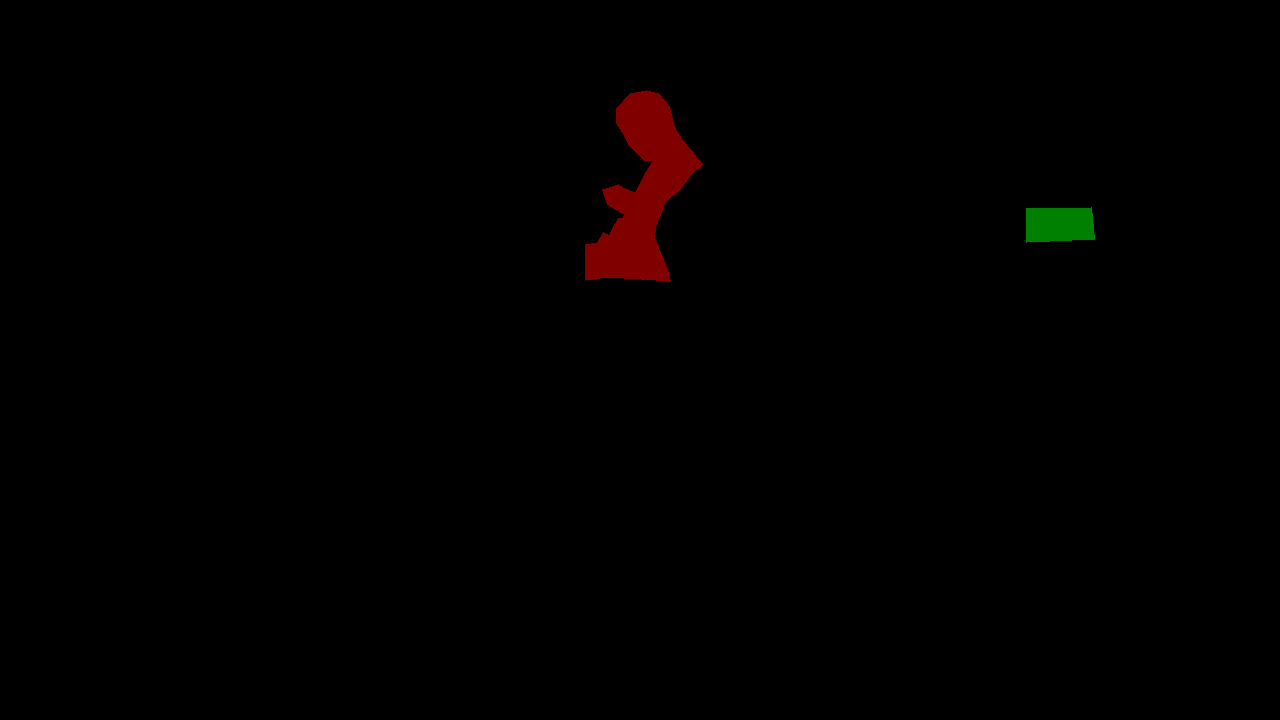person: (585, 90, 702, 281)
tvmonitor: (1026, 207, 1094, 242)
